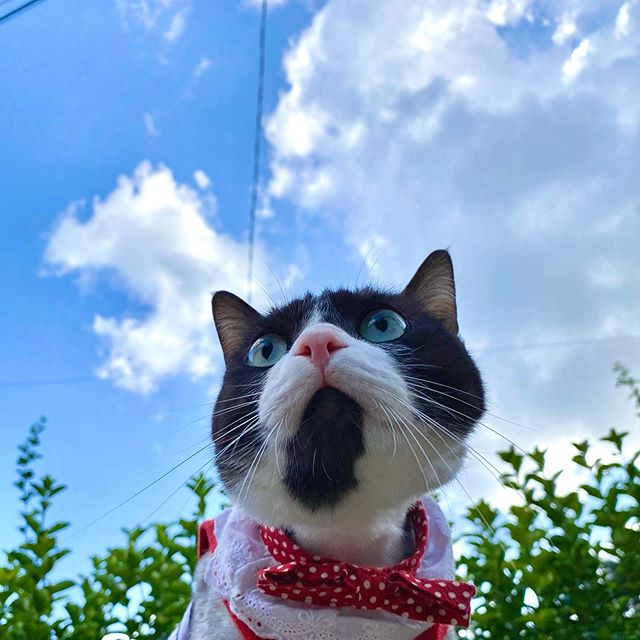cat: (182, 233, 492, 543)
